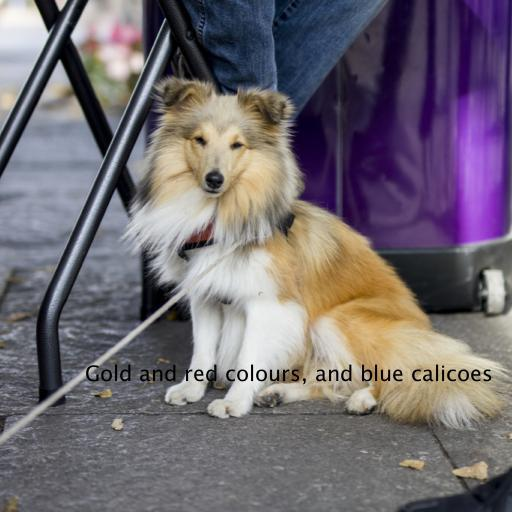Lucida Grande: (85, 364, 493, 385)
